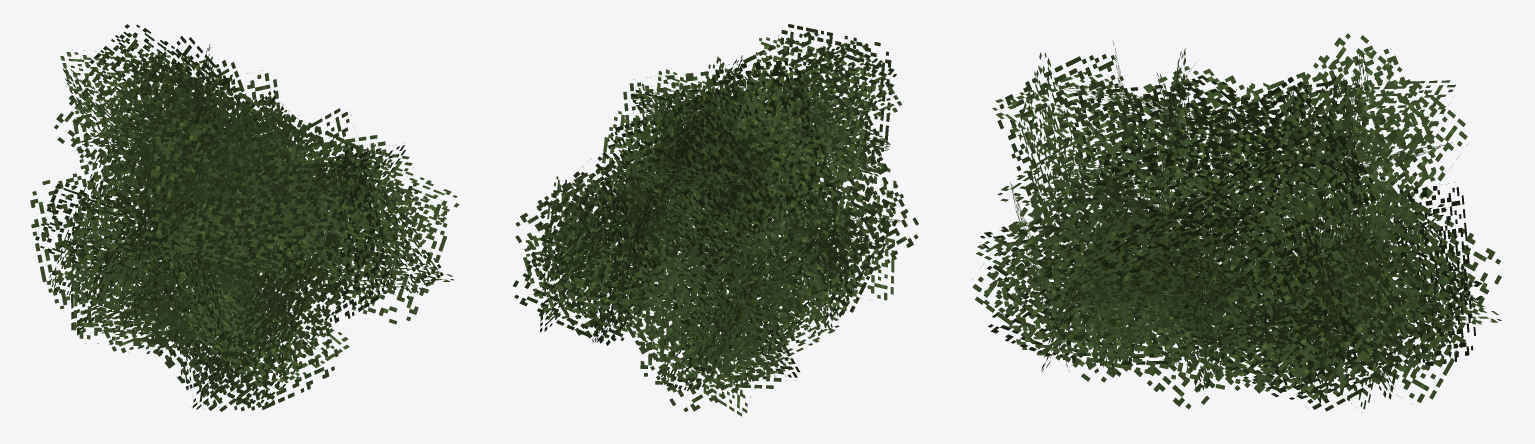
Rendered from BigBush4V2.fbx.
3 renders of one model, left to right at view 1: azimuth 30°, elevation 25°; view 2: azimuth 150°, elevation 25°; view 3: azimuth 270°, elevation 25°, orthographic. The views are drawn at different scales.
Visible parts, largest first — view 1: BigBush4V2; view 2: BigBush4V2; view 3: BigBush4V2.
Part boxes in pixels (<box>): BigBush4V2: <box>30,24,459,411</box>; BigBush4V2: <box>513,24,918,416</box>; BigBush4V2: <box>972,33,1501,412</box>.
Bounding box in the file's own units: 182 × 193 × 246.
